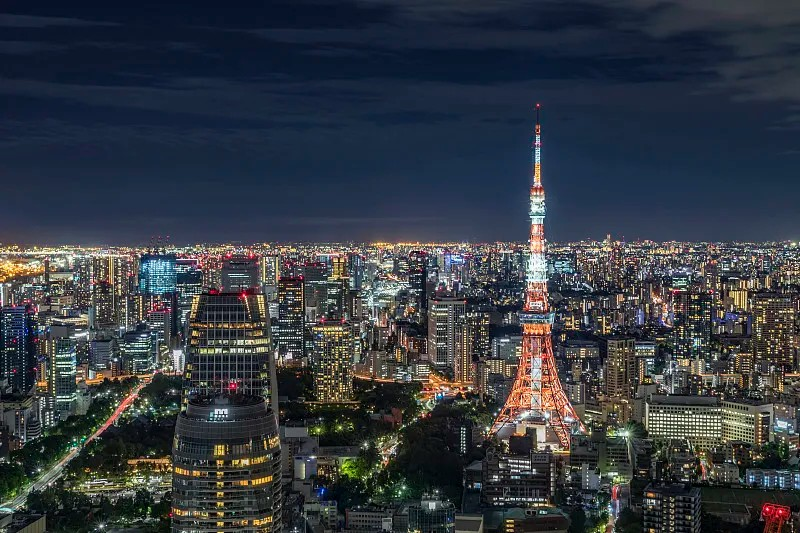Tokyo: (485, 99, 590, 452)
